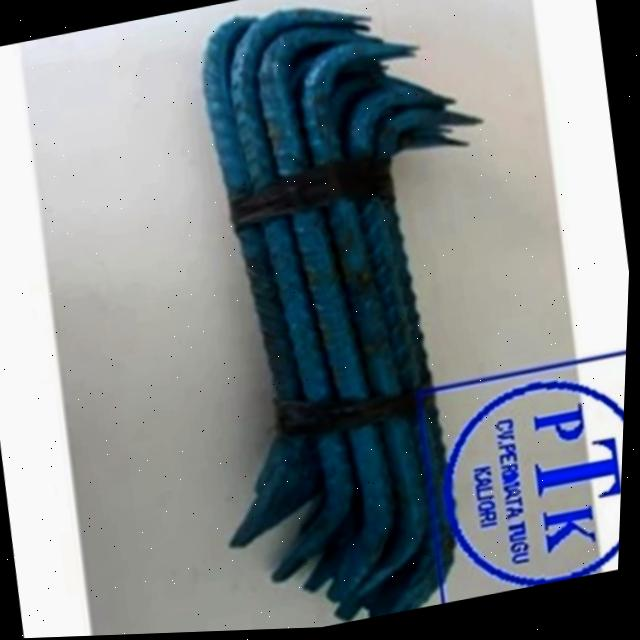crow bar: (287, 34, 439, 616)
